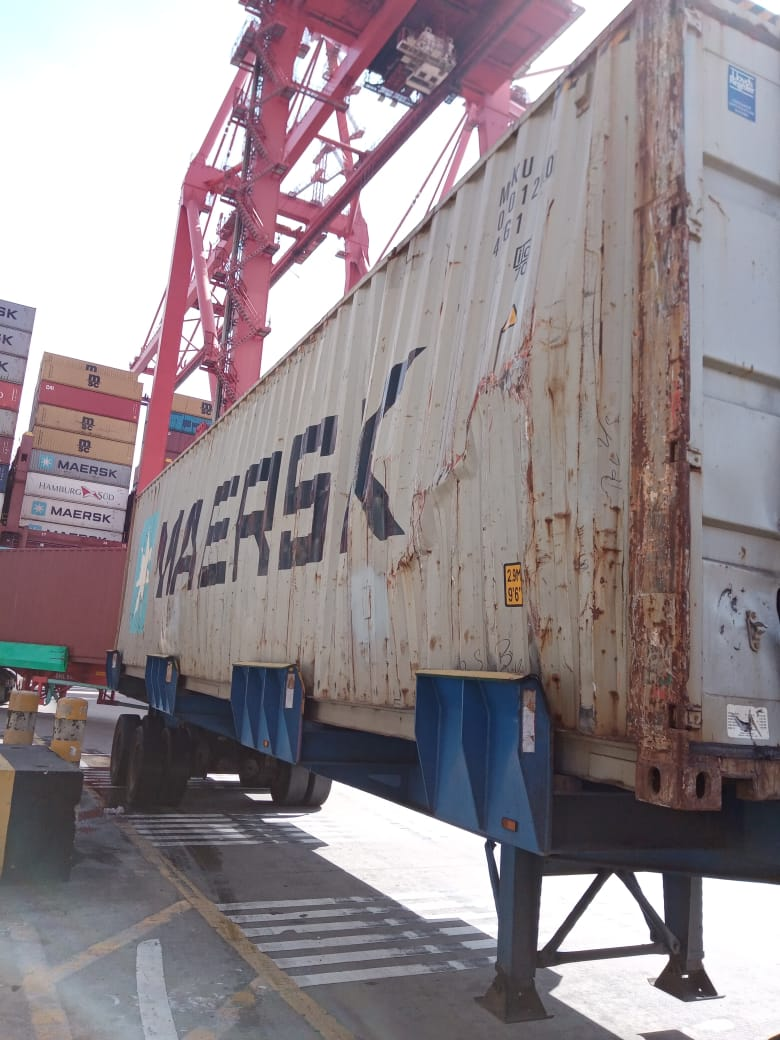bulged: (385, 300, 571, 545)
